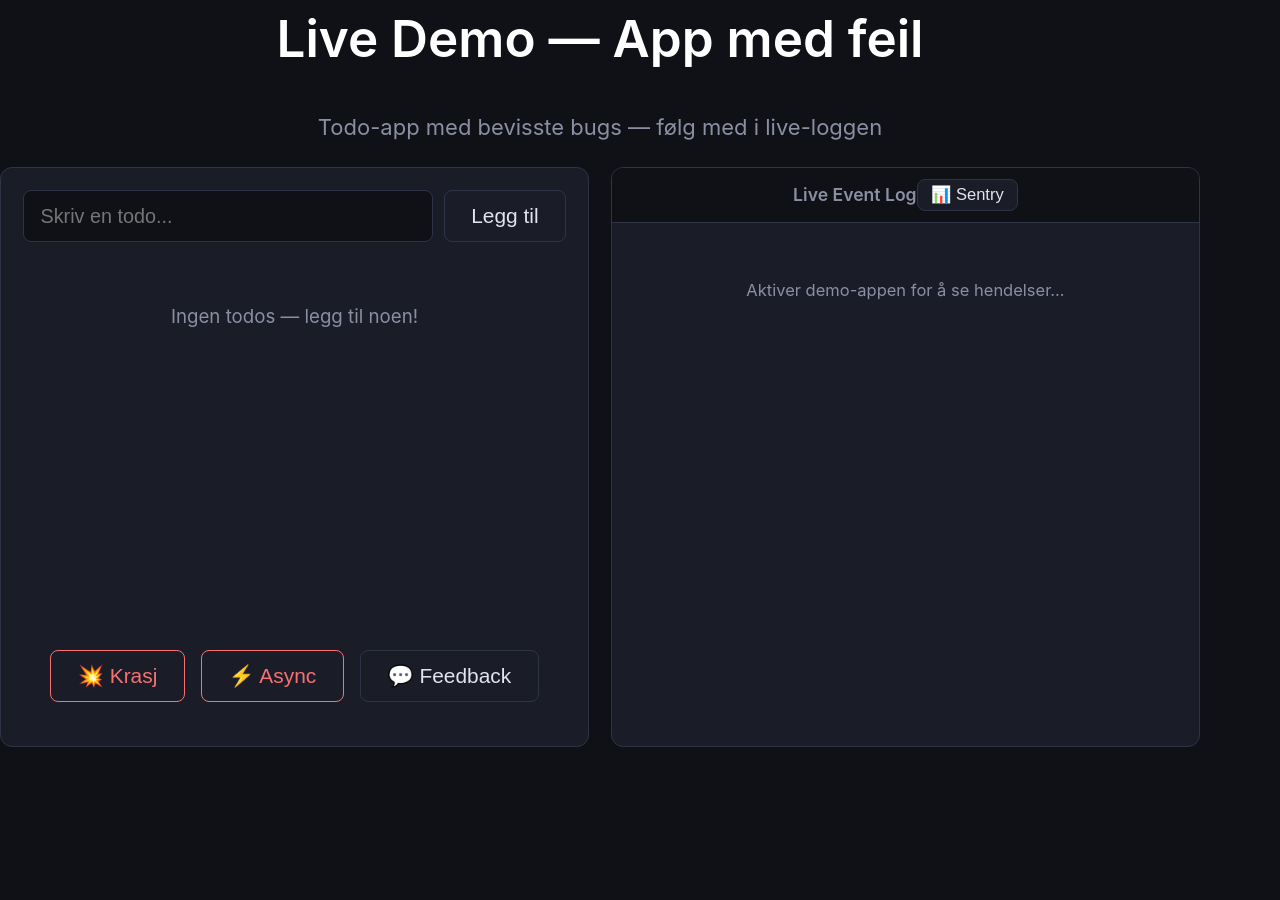
Test: DemoAppSlide › shows error when adding empty todo
Click the button "Legg til". click: (505, 216)
box: top-left (444, 190), bottom-right (566, 242)
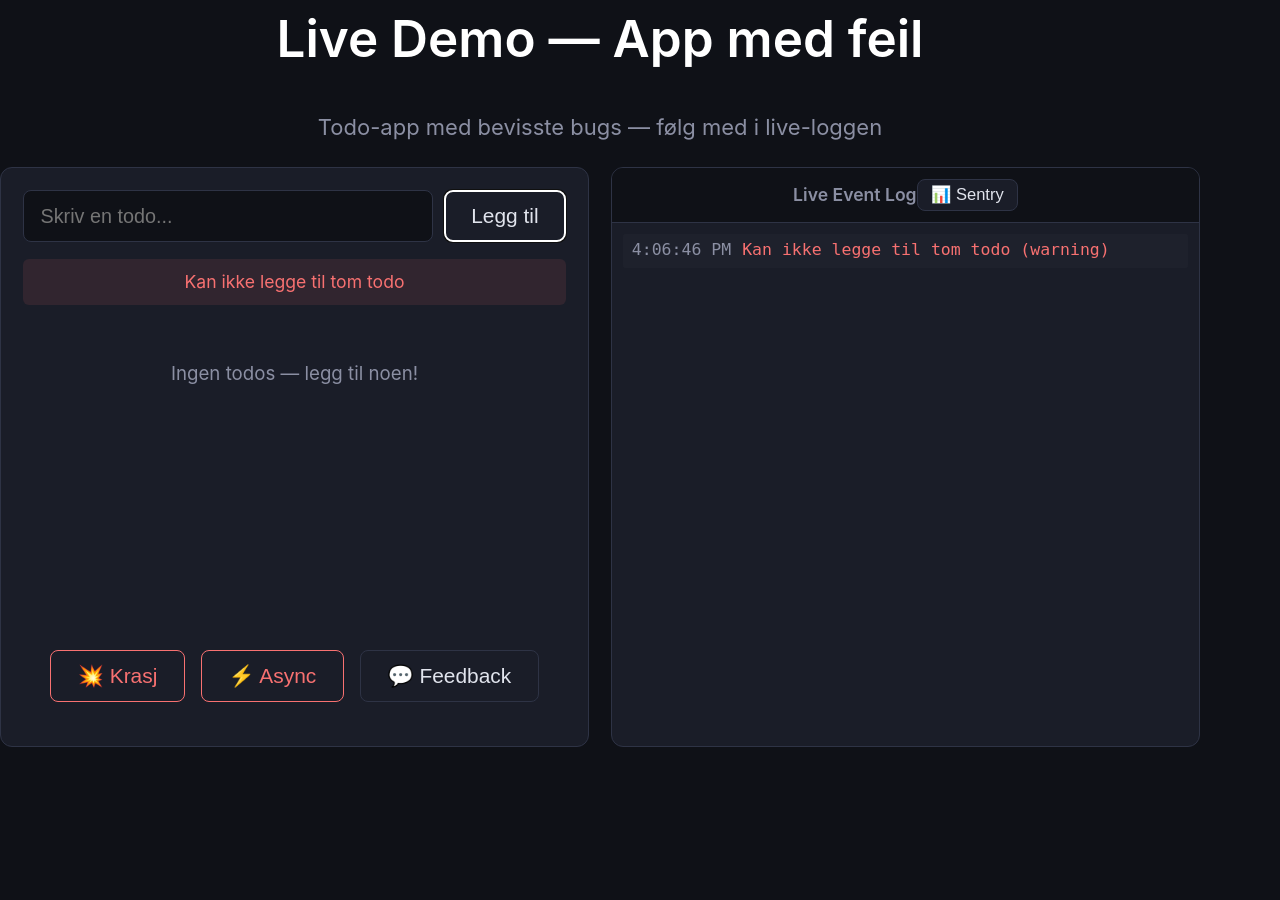
Result: the text "Kan ikke legge til tom todo" is shown at top-left (23, 259), bottom-right (566, 305)
